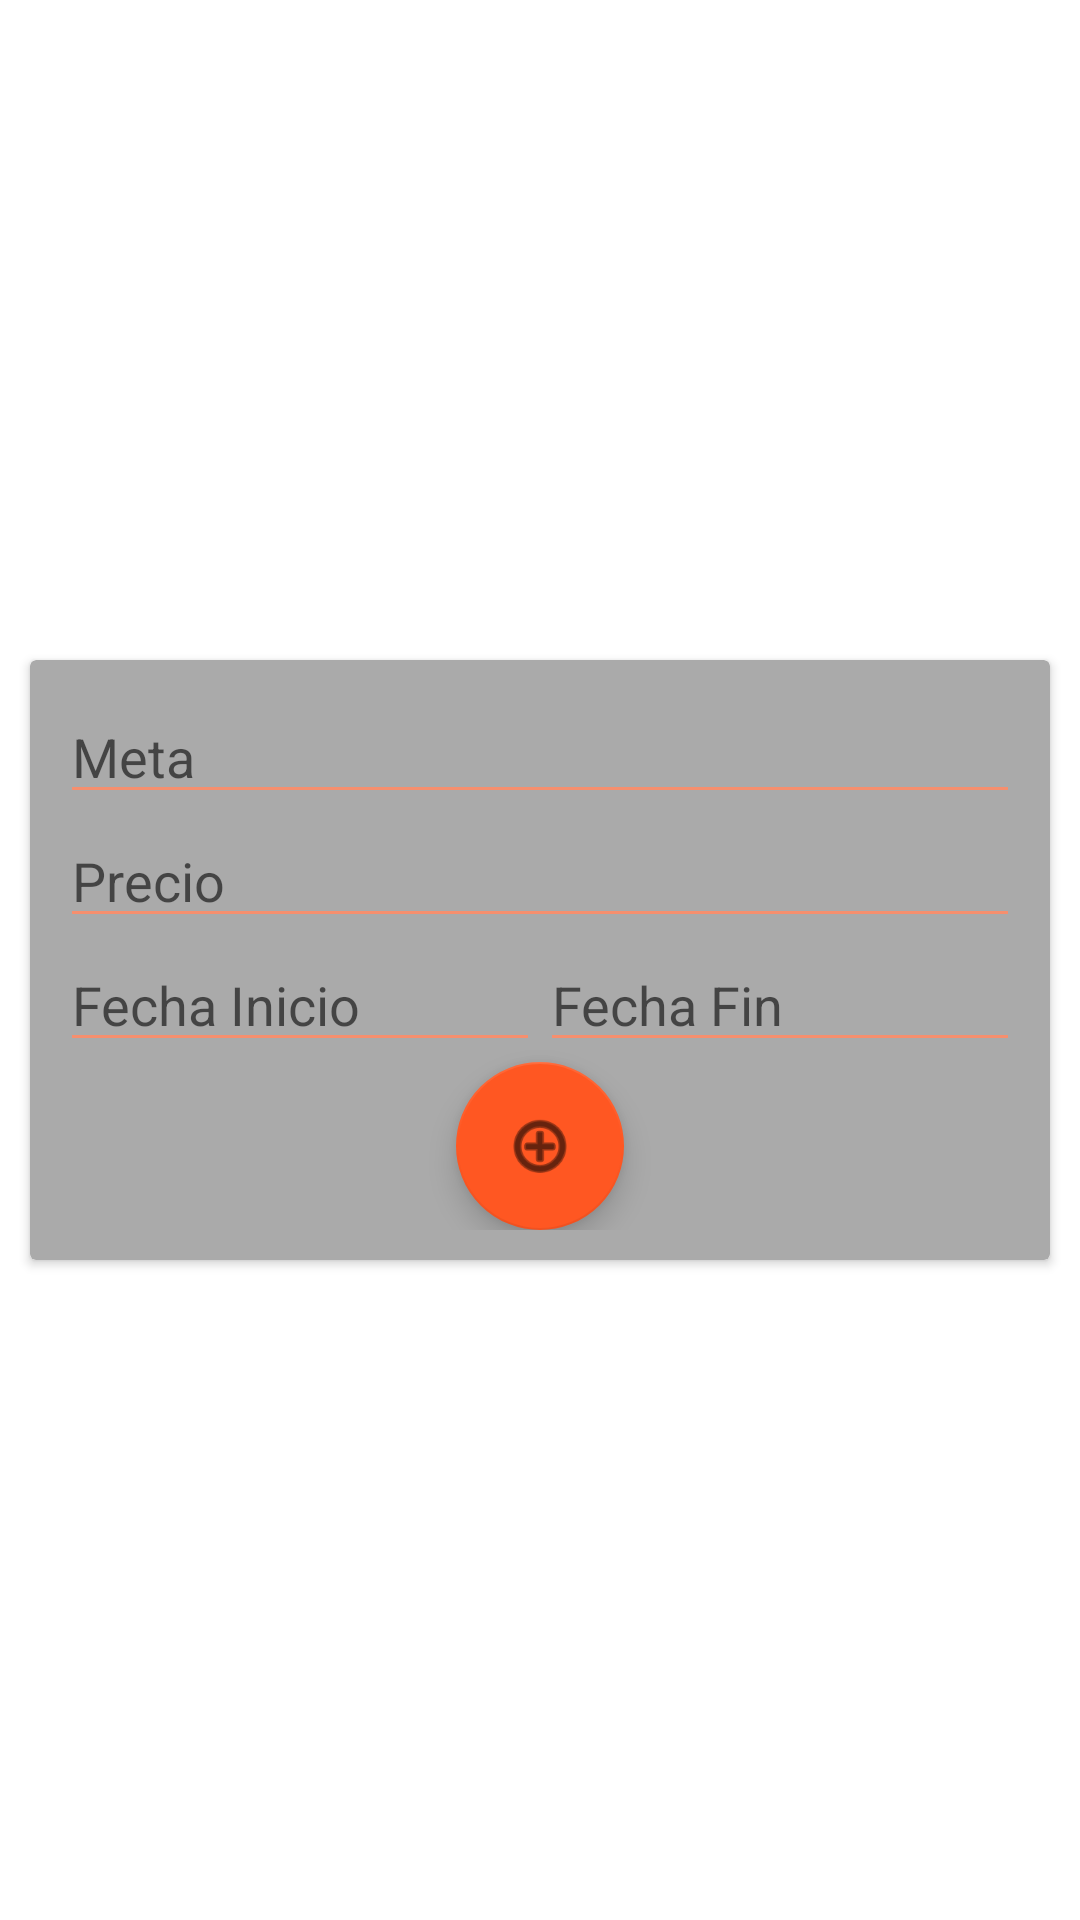

Named icons in this screenshot (1080px×1920px) and their bounding boxes, (x1, y1, x2, y2):
add: (456, 1062, 624, 1230)
